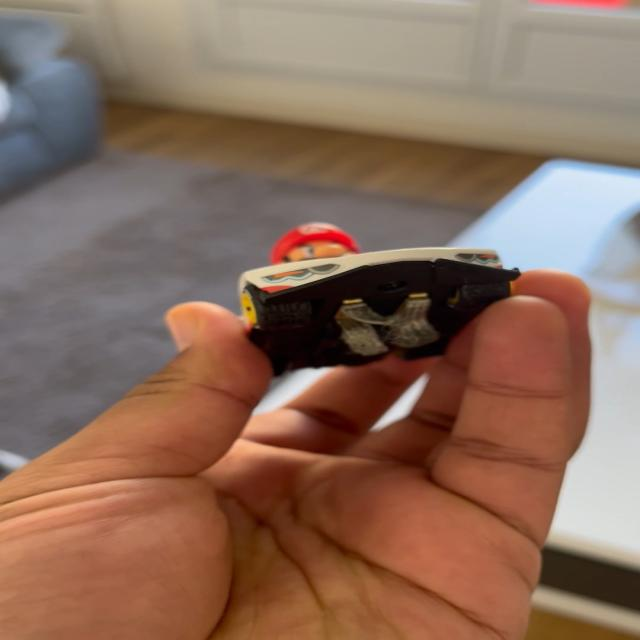mario: (192, 208, 562, 379)
